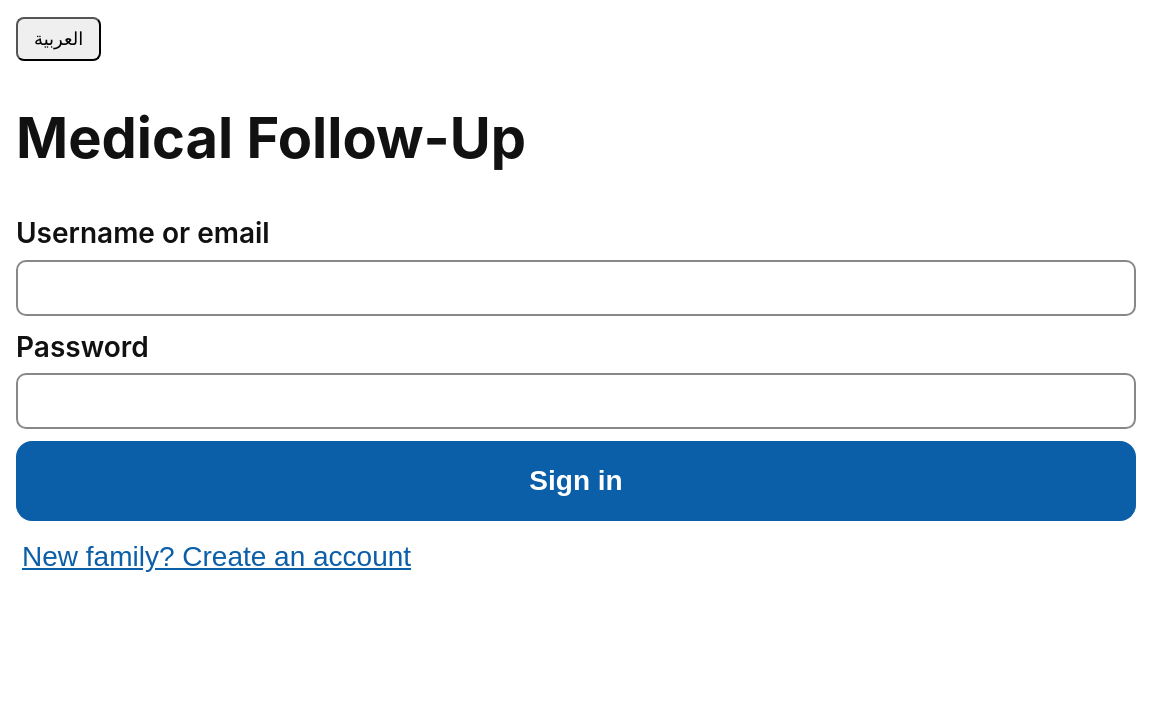
login › shows a clear error when sign-in fails
The width and height of the screenshot is (1152, 720).
Type "mama" into the field labelled "Username or email".
click(576, 288); type("mama")  # box [16,260,1136,316]
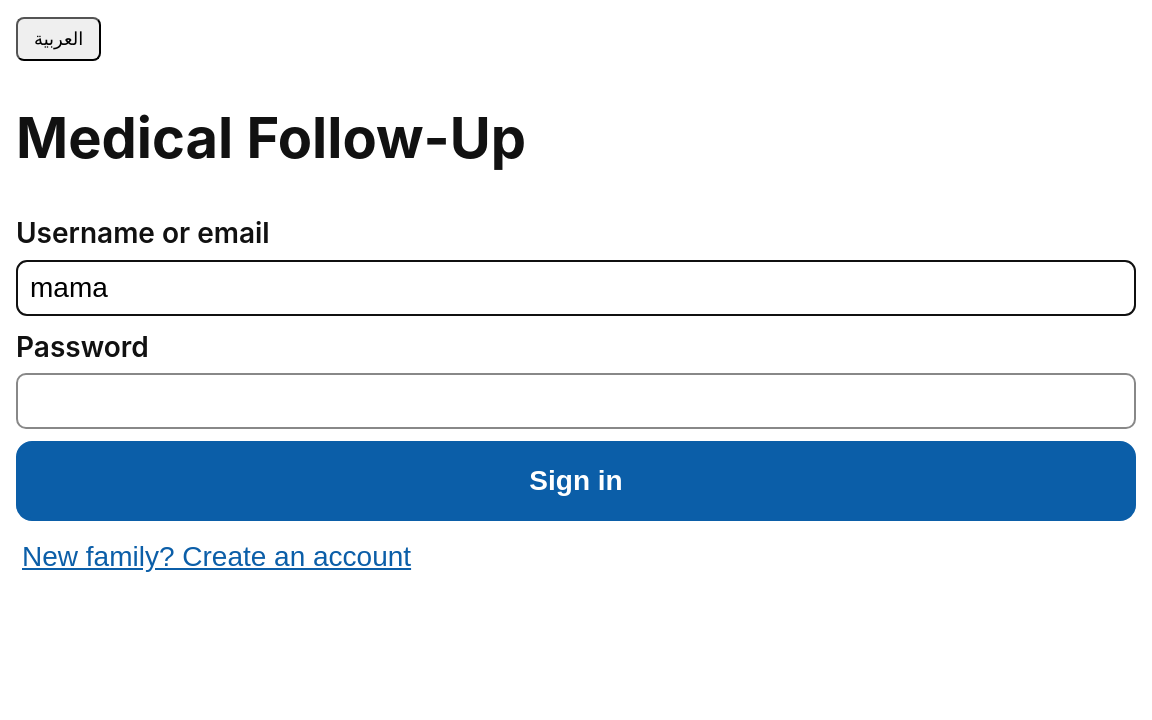
Type "wrong" into the password field labelled "Password".
click(576, 401); type("wrong")  # box [16,373,1136,429]
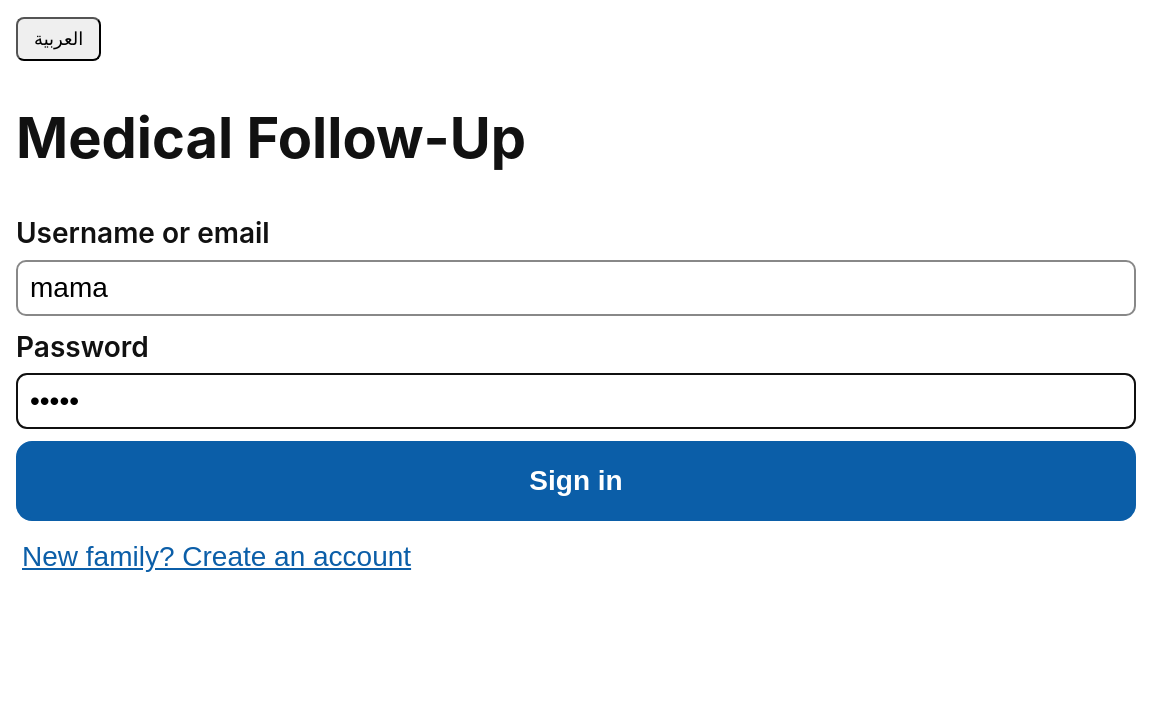
Click the button "Sign in".
click(576, 481)  # box [16,441,1136,521]
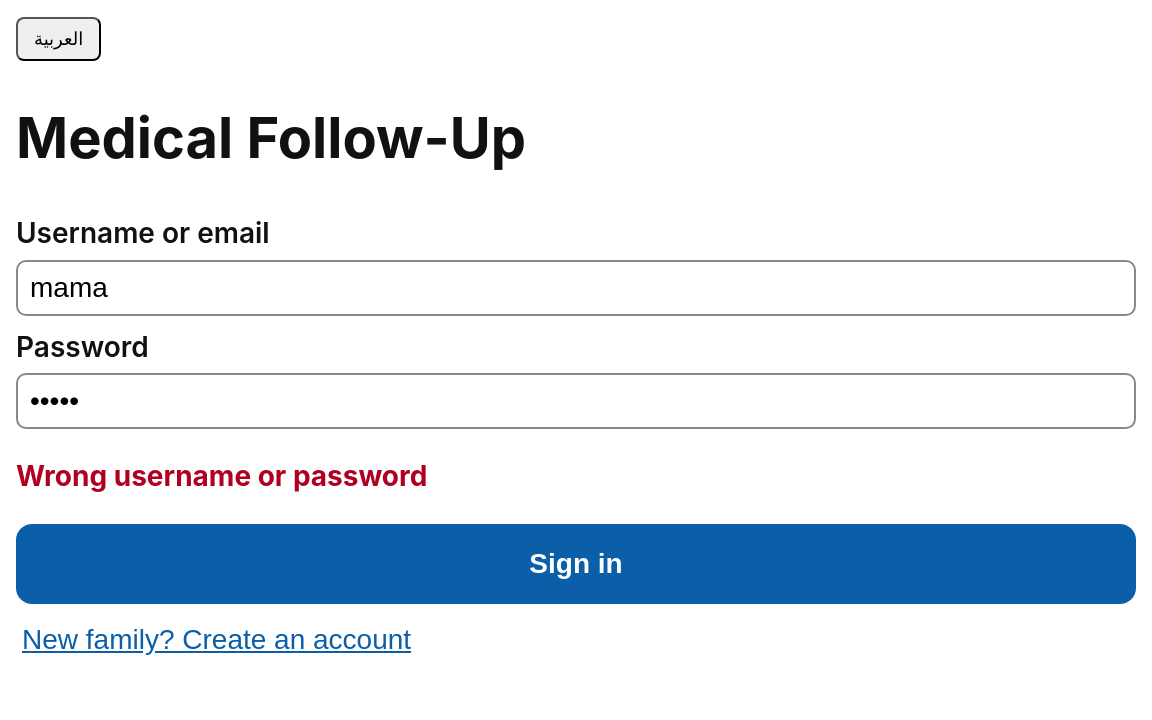
Expected: the message reads "Wrong username or password", [16,459,427,493]
